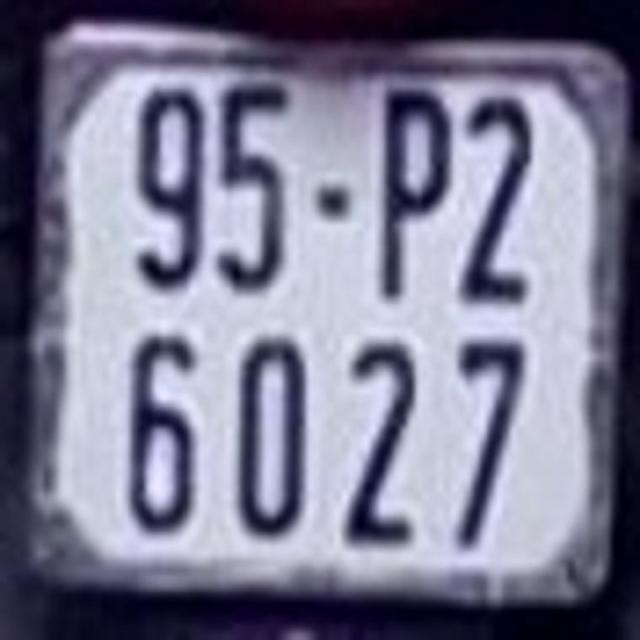0: (233, 328, 309, 539)
2: (461, 88, 535, 305), (343, 335, 418, 546)
5: (214, 75, 291, 294)
6: (127, 328, 200, 535)
7: (451, 332, 528, 551)
9: (131, 82, 207, 290)
P: (378, 81, 452, 304)
